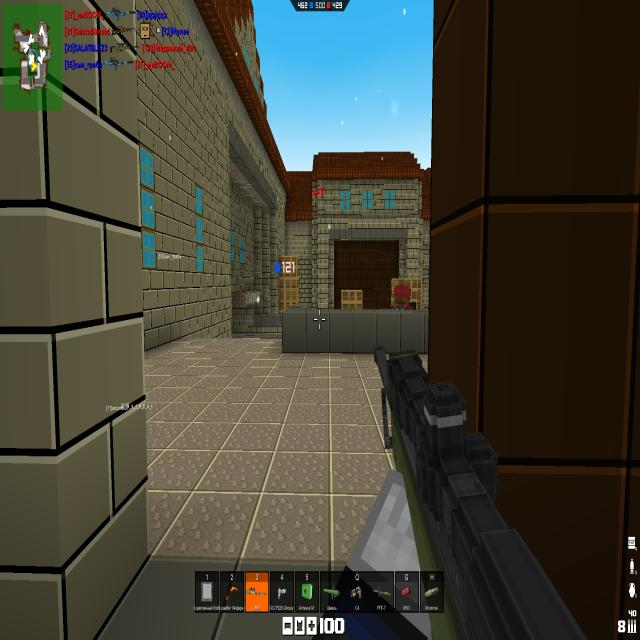player: (390, 282, 413, 312)
